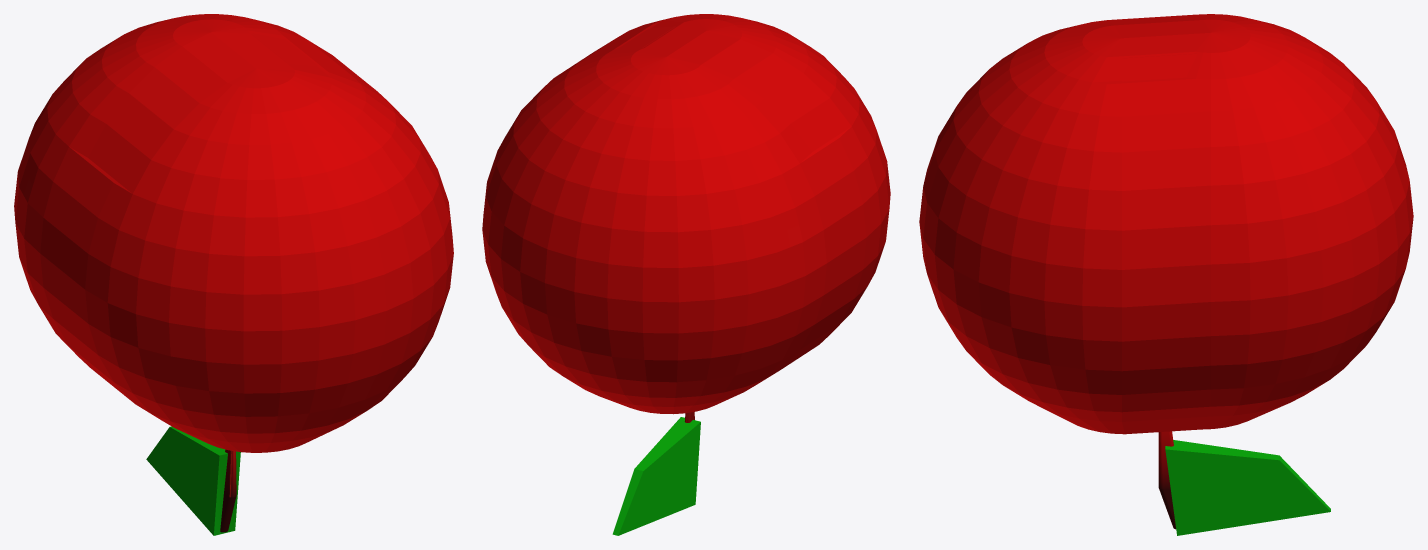
The model's file is apple.fbx.
3 views of the same model, side by side, from view 1: azimuth 30°, elevation 25°; view 2: azimuth 150°, elevation 25°; view 3: azimuth 270°, elevation 25° (orthographic). The views are drawn at different scales.
Visible parts, largest first — view 1: Sphere, Cube; view 2: Sphere, Cube; view 3: Sphere, Cube.
Part boxes in pixels (left/top/right/bottom): Sphere: left=14, top=14, right=453, bottom=532; Cube: left=146, top=426, right=240, bottom=535; Sphere: left=482, top=14, right=890, bottom=422; Cube: left=612, top=417, right=700, bottom=535; Sphere: left=919, top=14, right=1413, bottom=529; Cube: left=1165, top=440, right=1330, bottom=535.
Bounding box in the file's own units: 201 × 272 × 244.
